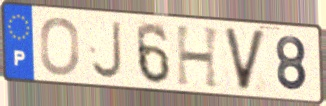6: (133, 21, 172, 87)
8: (274, 34, 310, 93)
H: (173, 23, 223, 91)
J: (89, 19, 125, 82)
O: (38, 15, 81, 77)
V: (221, 25, 269, 94)
